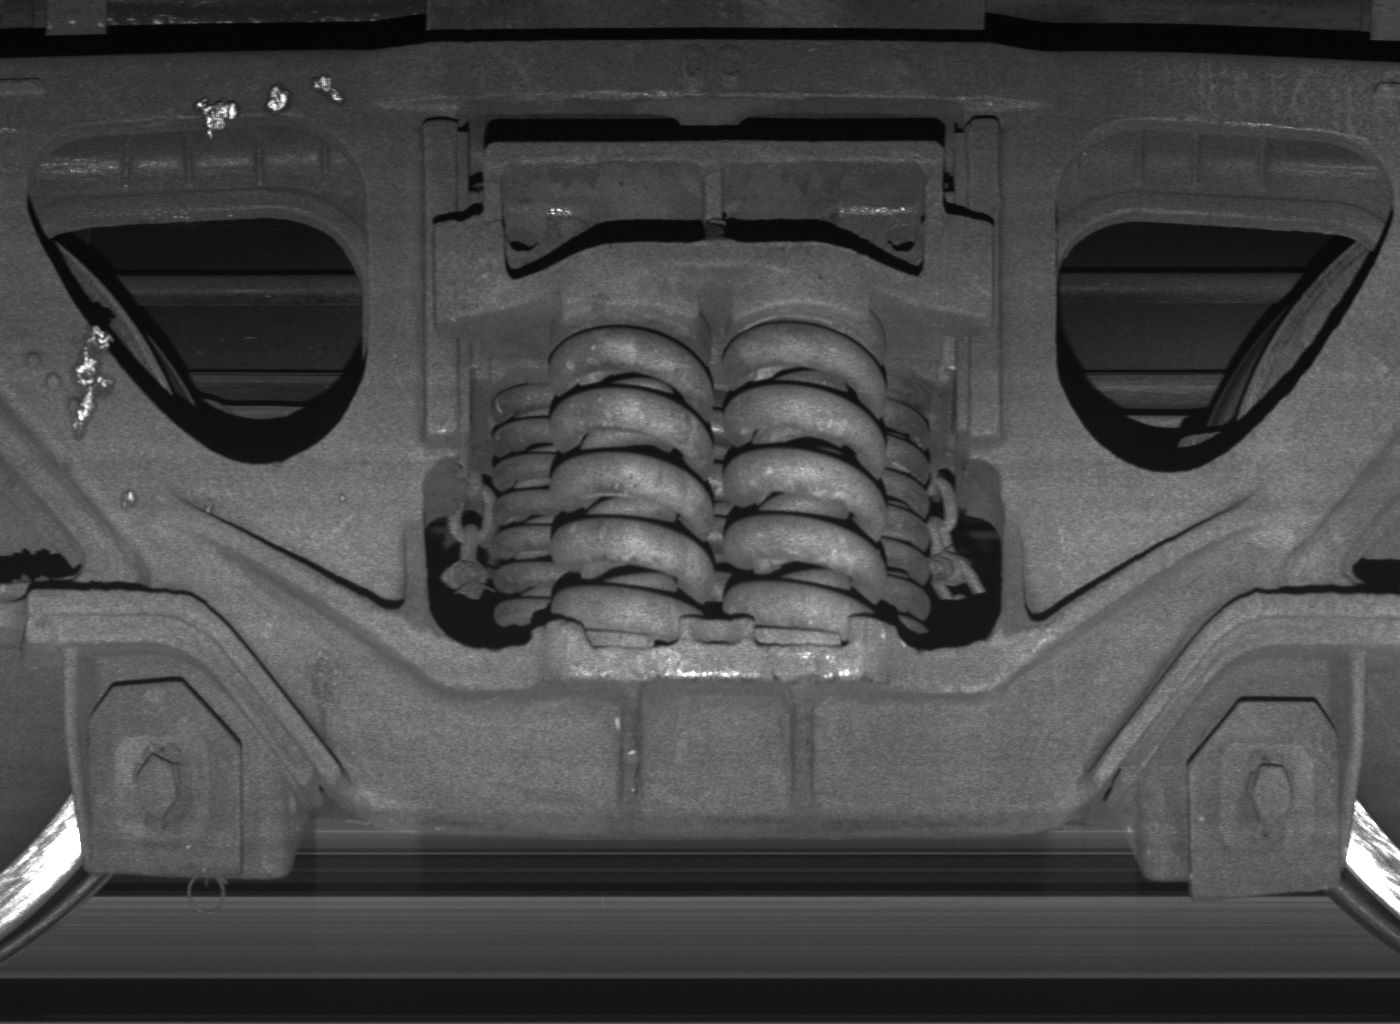locking plate: (1142, 645, 1366, 899)
normal: (65, 646, 293, 879)
